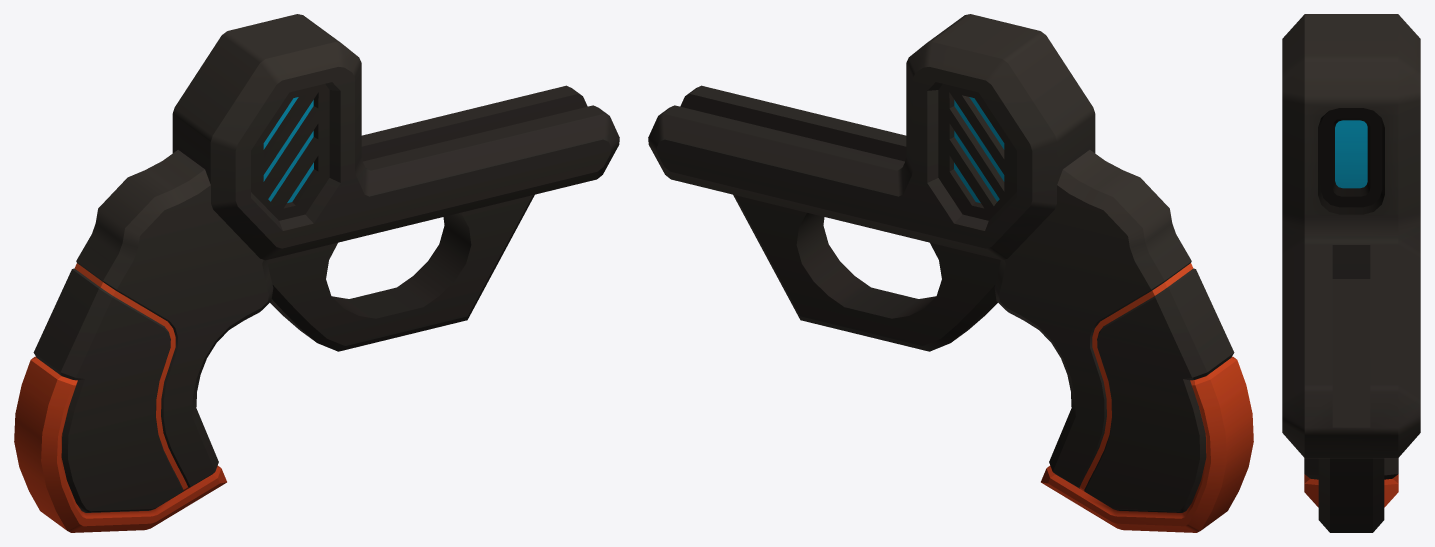
The model's file is Flare_Gun.fbx.
3 renders of one model, left to right at view 1: azimuth 30°, elevation 25°; view 2: azimuth 150°, elevation 25°; view 3: azimuth 270°, elevation 25°, orthographic. The views are drawn at different scales.
Visible parts, largest first — view 1: Flare_Gun; view 2: Flare_Gun; view 3: Flare_Gun.
Boxes of the visible parts, box(x1,y1,x2,y2) form: Flare_Gun: box(14, 14, 619, 532); Flare_Gun: box(648, 14, 1253, 532); Flare_Gun: box(1282, 14, 1420, 532).
Bounding box in the file's own units: 19.72 × 14.71 × 3.37.
